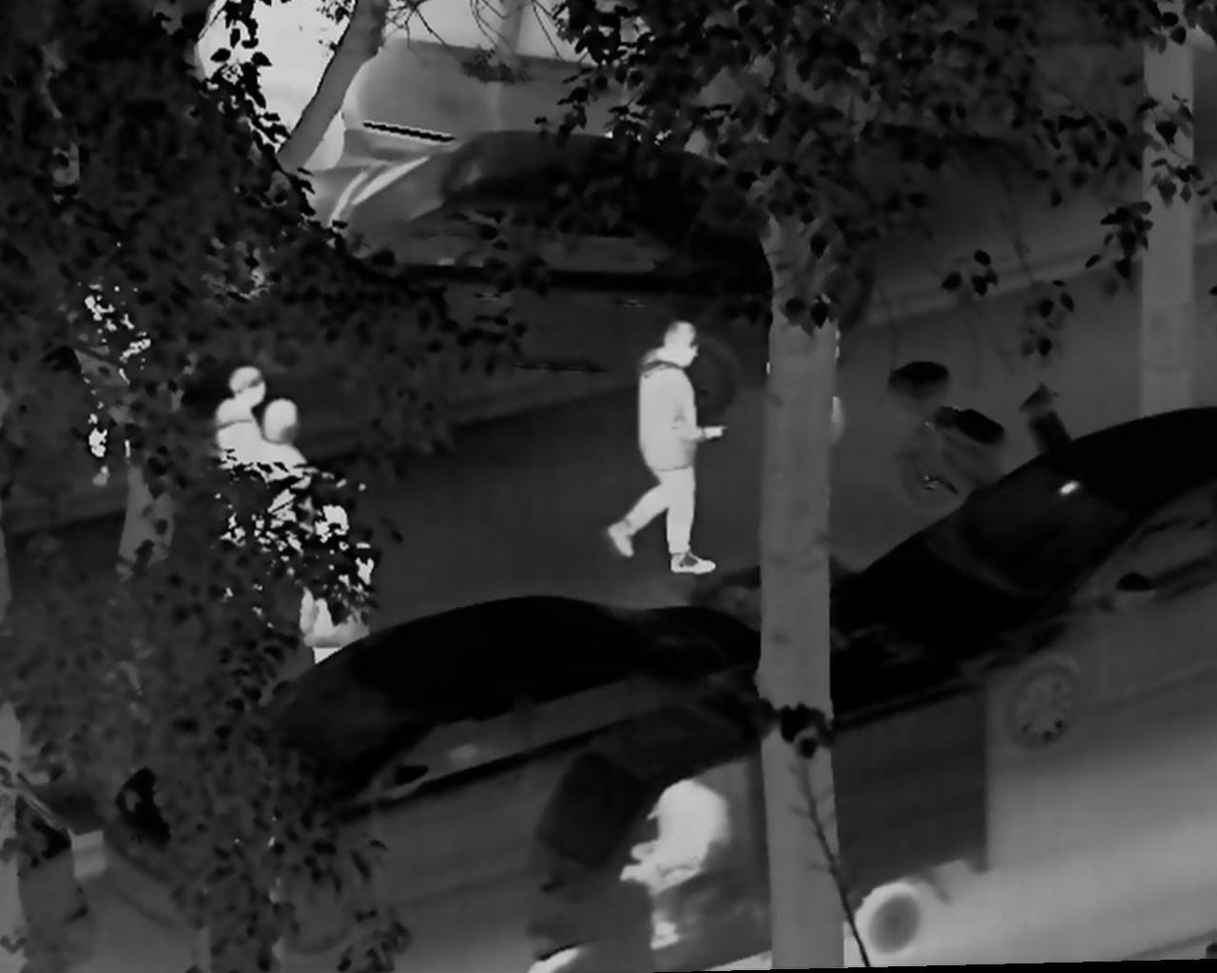person: (599, 316, 724, 574), (65, 234, 171, 503), (617, 770, 721, 965), (282, 496, 374, 671), (766, 288, 852, 465), (200, 357, 263, 555), (249, 396, 317, 554)
